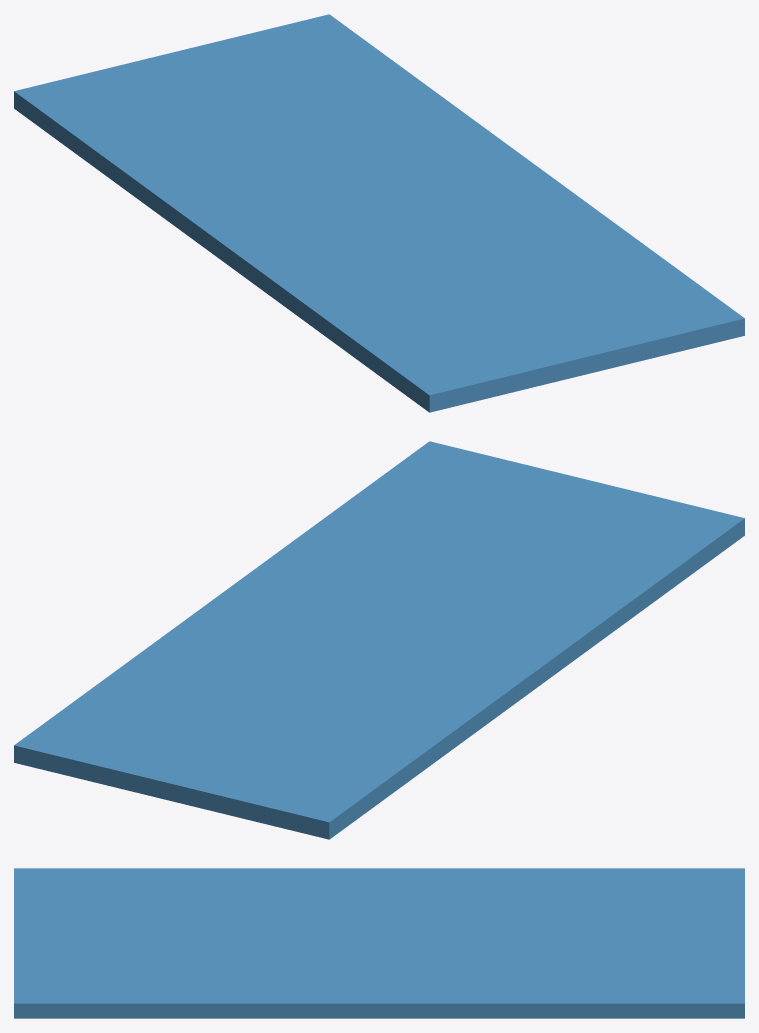
File: platform_m.fbx
The picture shows the model from 3 angles, top to bottom: view 1: azimuth 30°, elevation 25°; view 2: azimuth 150°, elevation 25°; view 3: azimuth 270°, elevation 25°; orthographic projection. The views are drawn at different scales.
Visible parts, largest first — view 1: pm; view 2: pm; view 3: pm.
Part boxes in pixels (left/top/right/bottom): pm: left=14, top=14, right=744, bottom=412; pm: left=14, top=441, right=744, bottom=839; pm: left=14, top=868, right=744, bottom=1018.
Size of the model in its own units: 2.25 by 0.1181 by 5.13.
